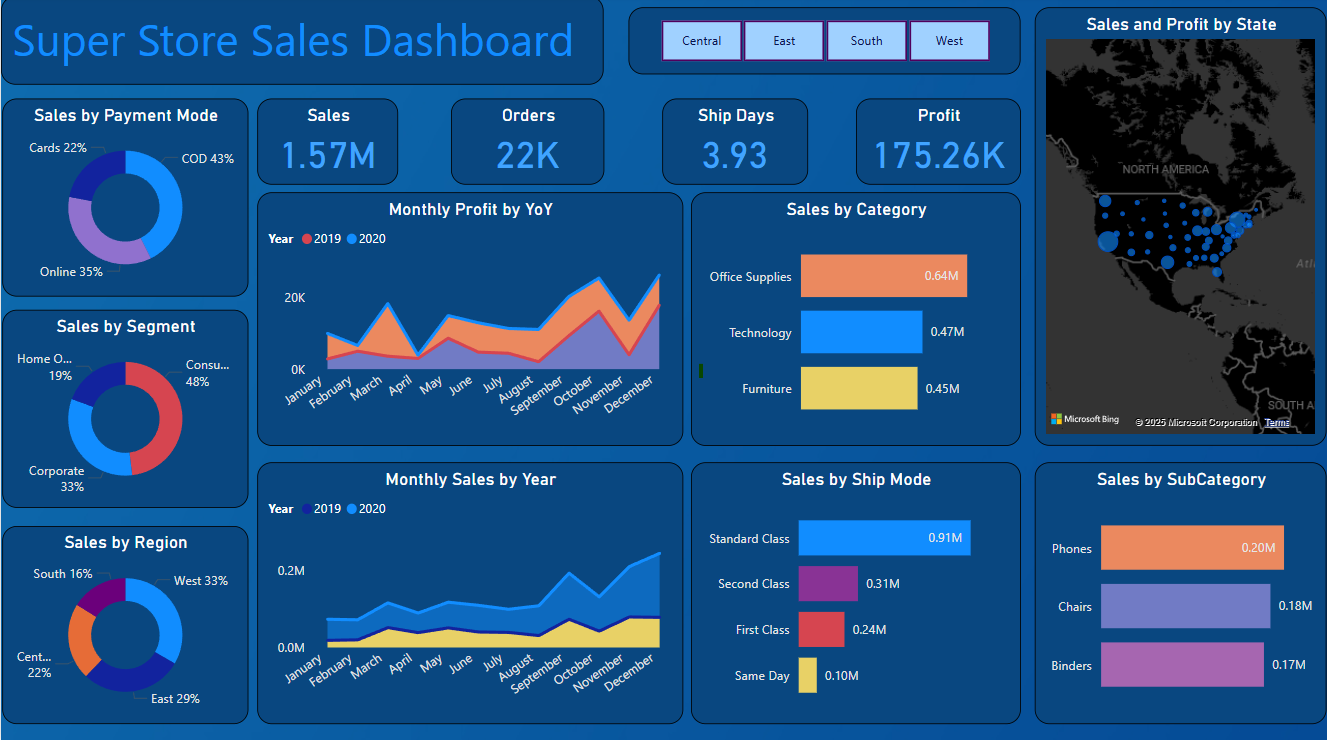

The dashboard page shown, as its layout file describes it:
{"tool":"powerbi","page":{"name":"Super Store Sales dashboard","canvas":[1280,720],"ordinal":0},"visuals":[{"type":"clusteredBarChart","title":" Sales by Category","fields":{"Category":["SuperStore_Sales_Dataset.Category"],"Y":["Sum(SuperStore_Sales_Dataset.Sales)"]},"box":[666.3,189.2,318.1,244.6],"z":0},{"type":"clusteredBarChart","title":" Sales by SubCategory","fields":{"Category":["SuperStore_Sales_Dataset.Sub-Category"],"Y":["Sum(SuperStore_Sales_Dataset.Sales)"]},"box":[997.6,450.6,281.9,253],"z":1000},{"type":"clusteredBarChart","title":" Sales by Ship Mode","fields":{"Category":["SuperStore_Sales_Dataset.Ship Mode"],"Y":["Sum(SuperStore_Sales_Dataset.Sales)"]},"box":[666.3,450.6,318.1,253],"z":2000},{"type":"stackedAreaChart","title":" Monthly Sales by Year","fields":{"Y":["Sum(SuperStore_Sales_Dataset.Sales)"],"Category":["SuperStore_Sales_Dataset.Order Date.Variation.Date Hierarchy.Month","SuperStore_Sales_Dataset.Order Date.Variation.Date Hierarchy.Day"],"Series":["SuperStore_Sales_Dataset.Order Date.Variation.Date Hierarchy.Year"]},"box":[247,450.6,410.8,253],"z":3000},{"type":"stackedAreaChart","title":" Monthly Profit by YoY","fields":{"Category":["SuperStore_Sales_Dataset.Order Date.Variation.Date Hierarchy.Month","SuperStore_Sales_Dataset.Order Date.Variation.Date Hierarchy.Day"],"Series":["SuperStore_Sales_Dataset.Order Date.Variation.Date Hierarchy.Year"],"Y":["Sum(SuperStore_Sales_Dataset.Profit)"]},"box":[247,189.2,410.8,244.6],"z":4000},{"type":"map","title":"Sales and  Profit by State","fields":{"Category":["SuperStore_Sales_Dataset.State"],"Size":["Sum(SuperStore_Sales_Dataset.Sales)"]},"box":[997.6,10.8,281.9,422.9],"z":5000},{"type":"donutChart","title":"Sales by Segment","fields":{"Category":["SuperStore_Sales_Dataset.Segment"],"Y":["Sum(SuperStore_Sales_Dataset.Sales)"]},"box":[1.2,302.4,237.3,191.6],"z":6000},{"type":"donutChart","title":" Sales by Payment Mode","fields":{"Category":["SuperStore_Sales_Dataset.Payment Mode"],"Y":["Sum(SuperStore_Sales_Dataset.Sales)"]},"box":[1.2,98.8,237.3,191.6],"z":7000},{"type":"slicer","fields":{"Values":["SuperStore_Sales_Dataset.Region"]},"box":[606,10.8,378.3,65.1],"z":8000},{"type":"textbox","box":[0,0,581.9,85.5],"z":9000},{"type":"card","title":"Sales","fields":{"Values":["Sum(SuperStore_Sales_Dataset.Sales)"]},"box":[247,98.8,136.1,83.1],"z":10000},{"type":"card","title":"Ship Days","fields":{"Values":["Avg(SuperStore_Sales_Dataset.AvgDelivery)"]},"box":[638.6,98.8,141,83.1],"z":11000},{"type":"card","title":"Profit","fields":{"Values":["Sum(SuperStore_Sales_Dataset.Profit)"]},"box":[825.3,98.8,159,83.1],"z":12000},{"type":"card","title":"Orders","fields":{"Values":["Sum(SuperStore_Sales_Dataset.Quantity)"]},"box":[433.7,98.8,148.2,83.1],"z":13000},{"type":"donutChart","title":"Sales by Region","fields":{"Category":["SuperStore_Sales_Dataset.Region","SuperStore_Sales_Dataset.Segment"],"Y":["Sum(SuperStore_Sales_Dataset.Sales)"]},"box":[1.2,512,237.3,191.6],"z":14000}]}

Visuals, with their boxes in screenshot pixels (x1, y1, x2, y2), scaled from the page's 1280x720 canvas onto the 1327x740 screenshot:
" Sales by Category" clusteredBarChart: 691/194/1021/446
" Sales by SubCategory" clusteredBarChart: 1034/463/1326/723
" Sales by Ship Mode" clusteredBarChart: 691/463/1021/723
" Monthly Sales by Year" stackedAreaChart: 256/463/682/723
" Monthly Profit by YoY" stackedAreaChart: 256/194/682/446
"Sales and  Profit by State" map: 1034/11/1326/446
"Sales by Segment" donutChart: 1/311/247/508
" Sales by Payment Mode" donutChart: 1/102/247/298
slicer - SuperStore_Sales_Dataset.Region: 628/11/1020/78
textbox: 0/0/603/88
"Sales" card: 256/102/397/187
"Ship Days" card: 662/102/808/187
"Profit" card: 856/102/1020/187
"Orders" card: 450/102/603/187
"Sales by Region" donutChart: 1/526/247/723
